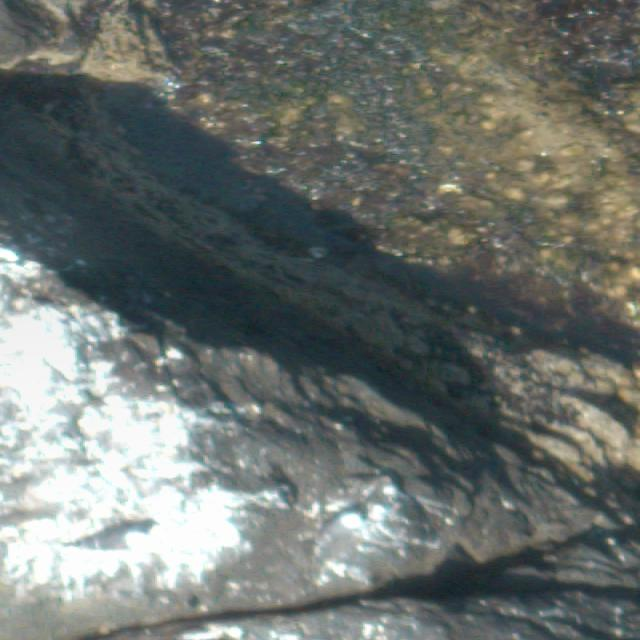umineko: (313, 513, 365, 555), (79, 526, 147, 551)
